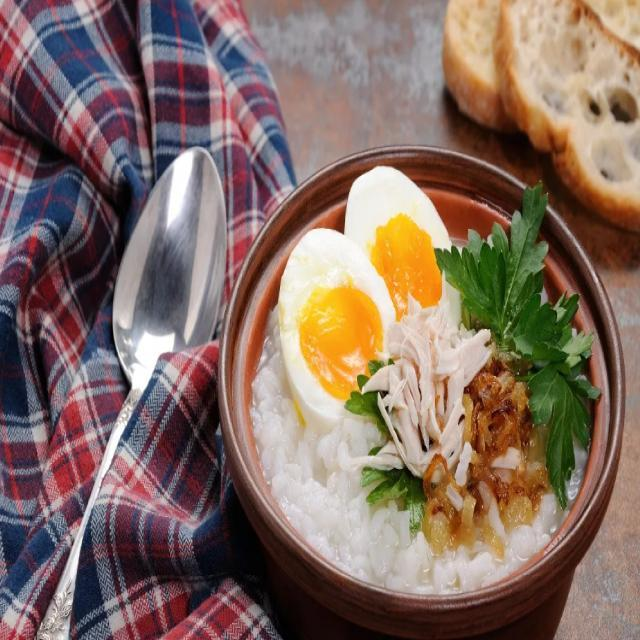bubur ayam: (250, 163, 592, 599)
mangkuk: (216, 150, 626, 632)
telur rebus: (278, 228, 398, 428), (343, 165, 455, 322)
